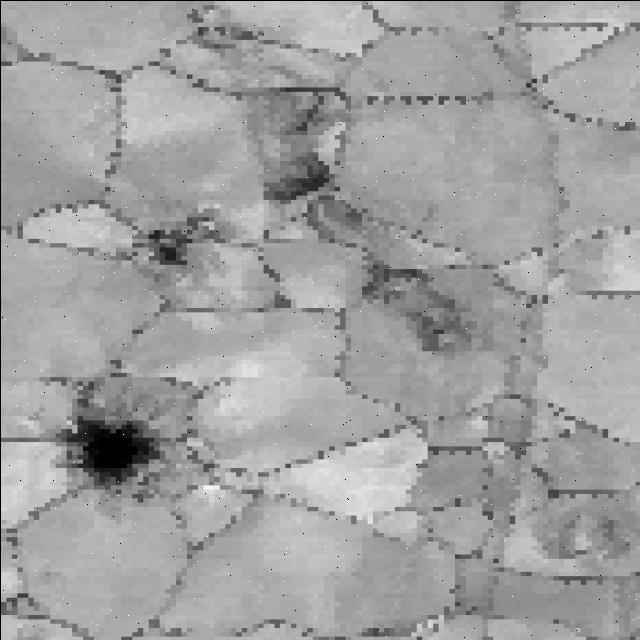good_void: (360, 252, 485, 359), (42, 399, 170, 487), (132, 192, 235, 275), (525, 501, 638, 571), (246, 89, 349, 148), (250, 158, 346, 214)
